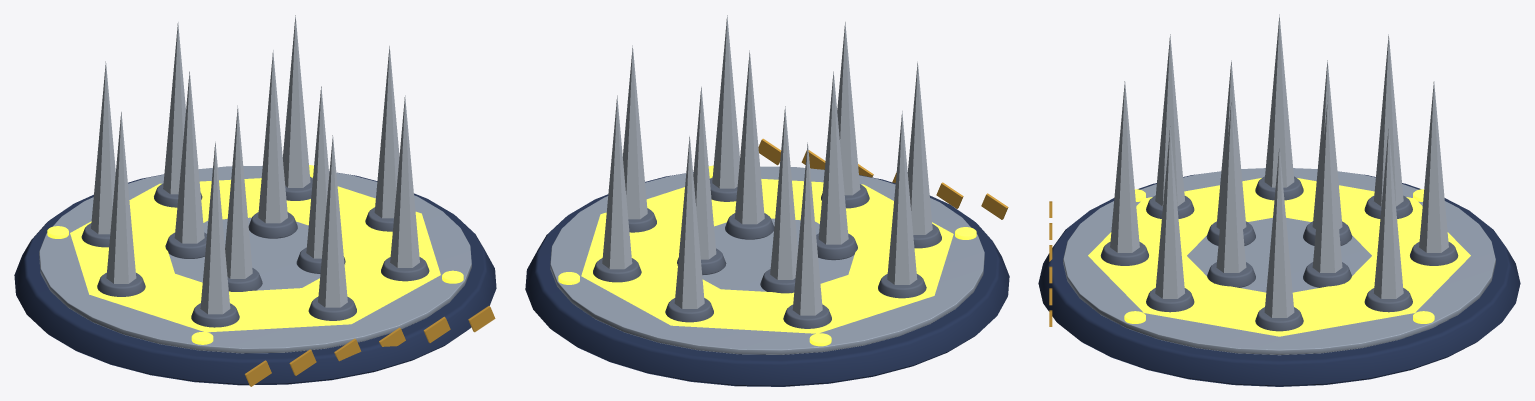
Rendered from trap_spike_triggered.glb.
3 renders of one model, left to right at view 1: azimuth 30°, elevation 25°; view 2: azimuth 150°, elevation 25°; view 3: azimuth 270°, elevation 25°, orthographic.
Parts seen in each view (by area): view 1: trap_spike_plate_rim, trap_spike_flash, trap_spike_plate, trap_spike_tip3, trap_spike_tip7, trap_spike_tip2, trap_spike_tip6, trap_spike_tip5, trap_spike_tip8, trap_spike_tip1, trap_spike_tip11, trap_spike_tip9 (+14 smaller); view 2: trap_spike_plate_rim, trap_spike_plate, trap_spike_flash, trap_spike_tip11, trap_spike_tip0, trap_spike_tip1, trap_spike_tip9, trap_spike_tip8, trap_spike_tip10, trap_spike_tip5, trap_spike_tip2, trap_spike_tip4 (+14 smaller); view 3: trap_spike_plate_rim, trap_spike_plate, trap_spike_flash, trap_spike_tip6, trap_spike_tip10, trap_spike_tip5, trap_spike_tip11, trap_spike_tip0, trap_spike_tip3, trap_spike_tip4, trap_spike_tip8, trap_spike_tip7 (+15 smaller).
Boxes of the visible parts, left/top/right/bottom form: trap_spike_plate_rim: left=39, top=166, right=471, bottom=353; trap_spike_flash: left=70, top=178, right=440, bottom=332; trap_spike_plate: left=14, top=171, right=496, bottom=385; trap_spike_tip3: left=258, top=50, right=287, bottom=223; trap_spike_tip7: left=200, top=141, right=230, bottom=314; trap_spike_tip2: left=174, top=71, right=204, bottom=243; trap_spike_tip6: left=318, top=135, right=347, bottom=307; trap_spike_tip5: left=390, top=95, right=419, bottom=267; trap_spike_tip8: left=106, top=111, right=136, bottom=283; trap_spike_tip1: left=225, top=105, right=252, bottom=278; trap_spike_tip11: left=282, top=15, right=310, bottom=187; trap_spike_tip9: left=91, top=61, right=115, bottom=234; trap_spike_plate_rim: left=550, top=166, right=984, bottom=354; trap_spike_plate: left=525, top=172, right=1009, bottom=386; trap_spike_flash: left=581, top=179, right=953, bottom=333; trap_spike_tip11: left=602, top=95, right=632, bottom=269; trap_spike_tip0: left=734, top=50, right=764, bottom=224; trap_spike_tip1: left=818, top=71, right=848, bottom=244; trap_spike_tip9: left=792, top=142, right=822, bottom=315; trap_spike_tip8: left=887, top=111, right=917, bottom=284; trap_spike_tip10: left=674, top=136, right=704, bottom=308; trap_spike_tip5: left=712, top=15, right=739, bottom=188; trap_spike_tip2: left=770, top=106, right=797, bottom=279; trap_spike_tip4: left=623, top=45, right=647, bottom=219; trap_spike_plate_rim: left=1063, top=168, right=1495, bottom=355; trap_spike_plate: left=1038, top=174, right=1520, bottom=386; trap_spike_flash: left=1088, top=178, right=1470, bottom=336; trap_spike_tip6: left=1110, top=81, right=1139, bottom=252; trap_spike_tip10: left=1419, top=81, right=1448, bottom=252; trap_spike_tip5: left=1155, top=126, right=1184, bottom=298; trap_spike_tip11: left=1374, top=126, right=1403, bottom=298; trap_spike_tip0: left=1216, top=101, right=1246, bottom=272; trap_spike_tip3: left=1312, top=101, right=1342, bottom=272; trap_spike_tip4: left=1264, top=145, right=1294, bottom=317; trap_spike_tip8: left=1264, top=14, right=1294, bottom=187; trap_spike_tip7: left=1155, top=34, right=1184, bottom=206.
Size of the model in its own units: 1.56 by 0.74 by 1.56.
